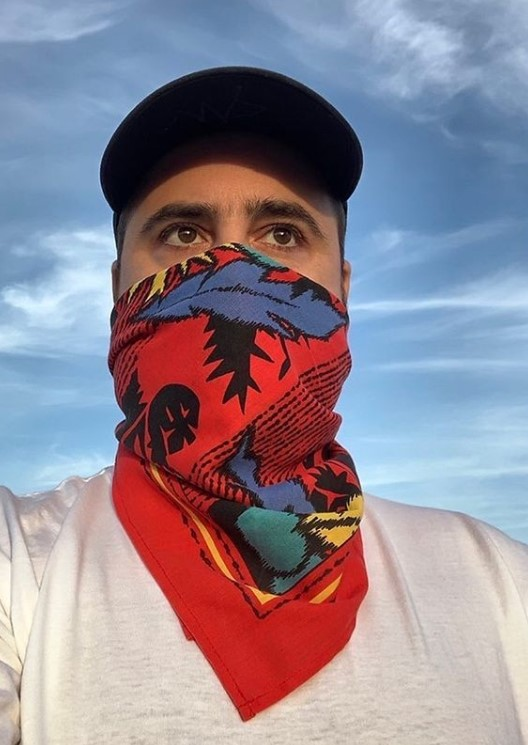face_with_mask: (106, 94, 349, 434)
